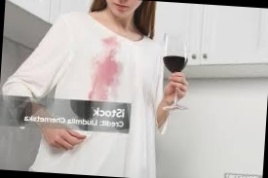wine: (84, 50, 121, 99), (100, 35, 122, 56)
